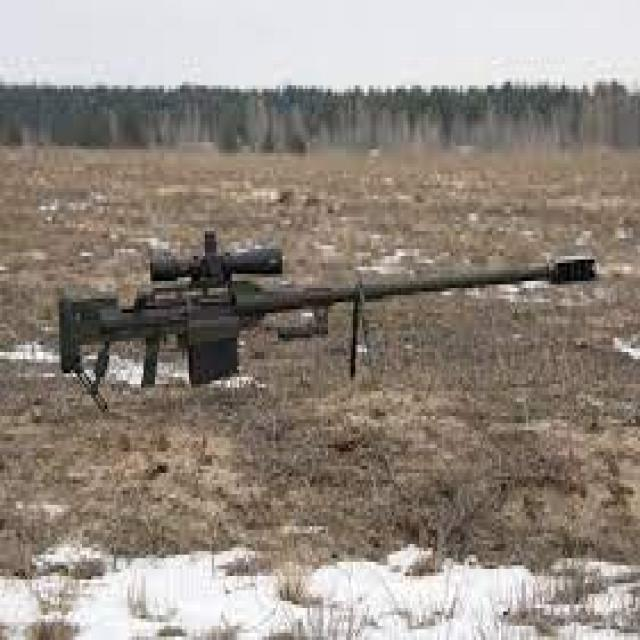rifle: (42, 215, 620, 411)
